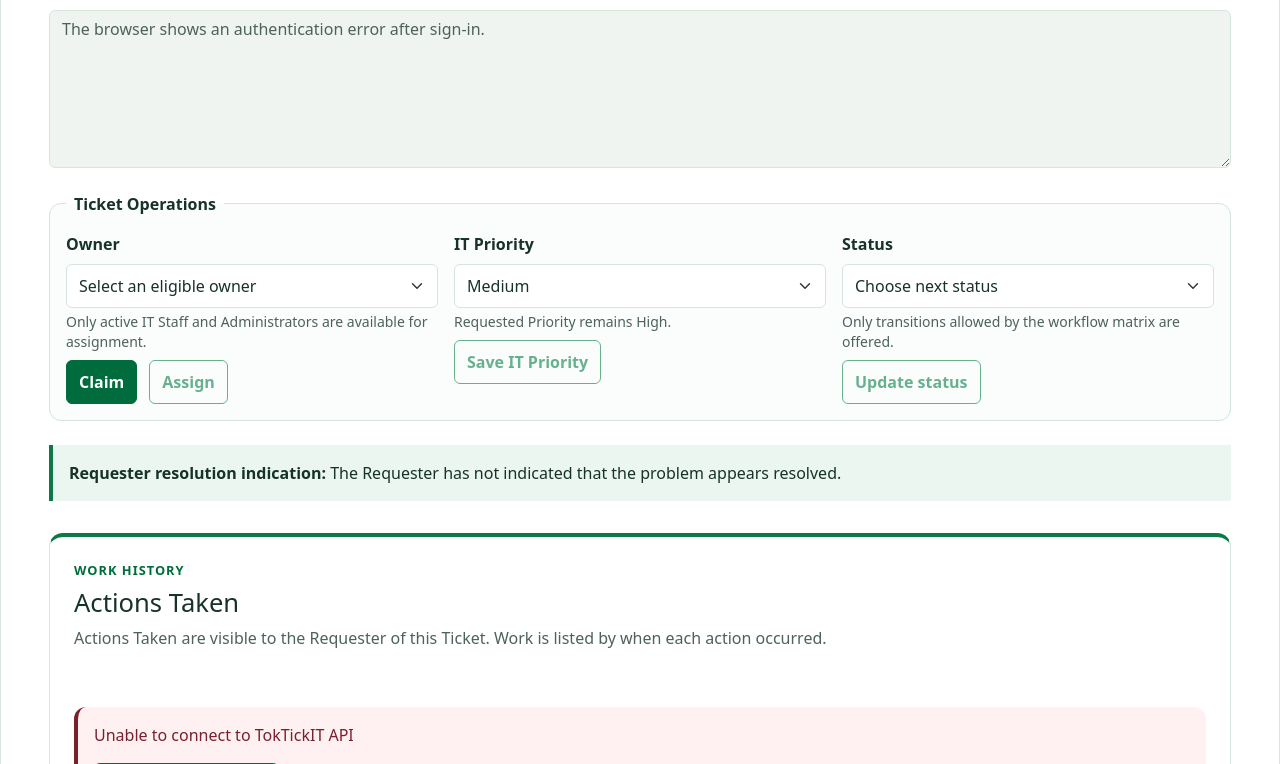
Test case: IT Staff Ticket Detail › requires status confirmation and submits permitted mutations
(page scrolled)
Click the button "Claim" at (102, 382), box left=66, top=360, right=137, bottom=404
(page scrolled)
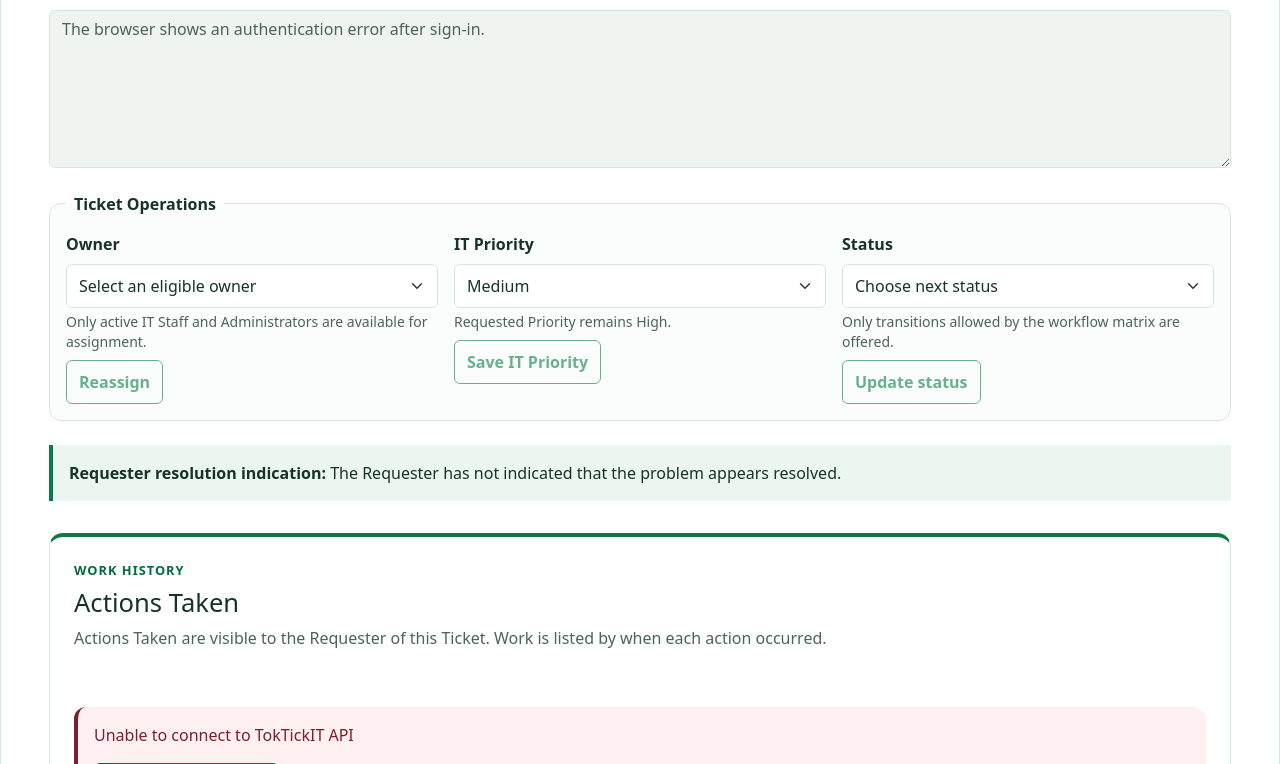
Select "Low" in the dropdown labelled "IT Priority" at (640, 286), box left=454, top=264, right=826, bottom=308
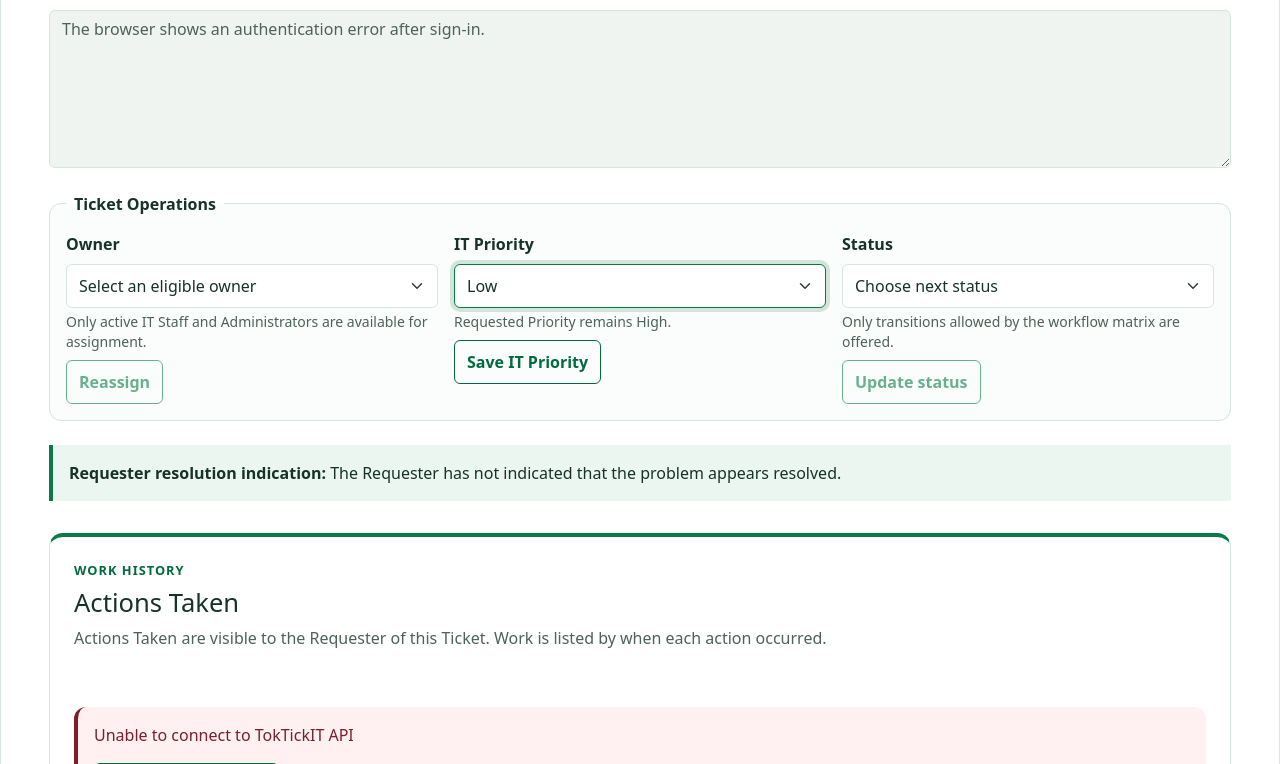
Click the button "Save IT Priority" at (528, 362), box left=454, top=340, right=601, bottom=384
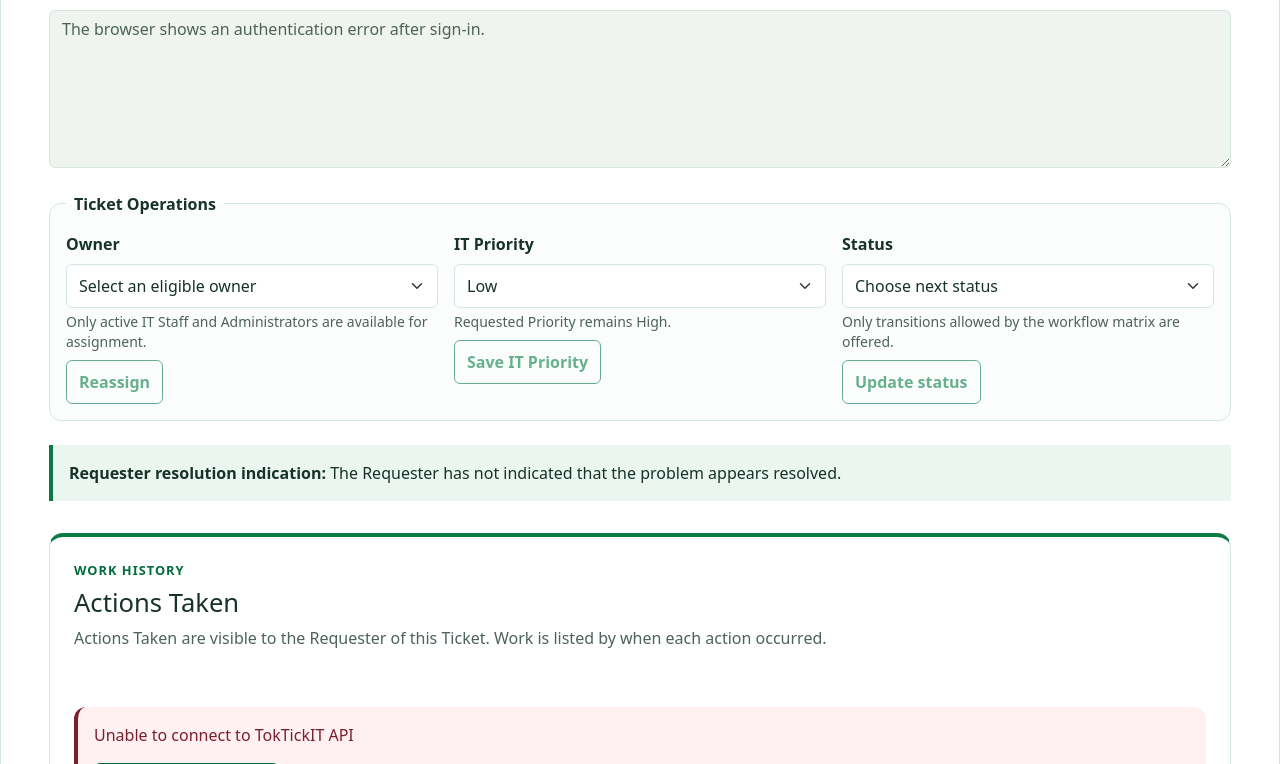
Select "In Progress" in the dropdown labelled "Status" at (1028, 286), box left=842, top=264, right=1214, bottom=308
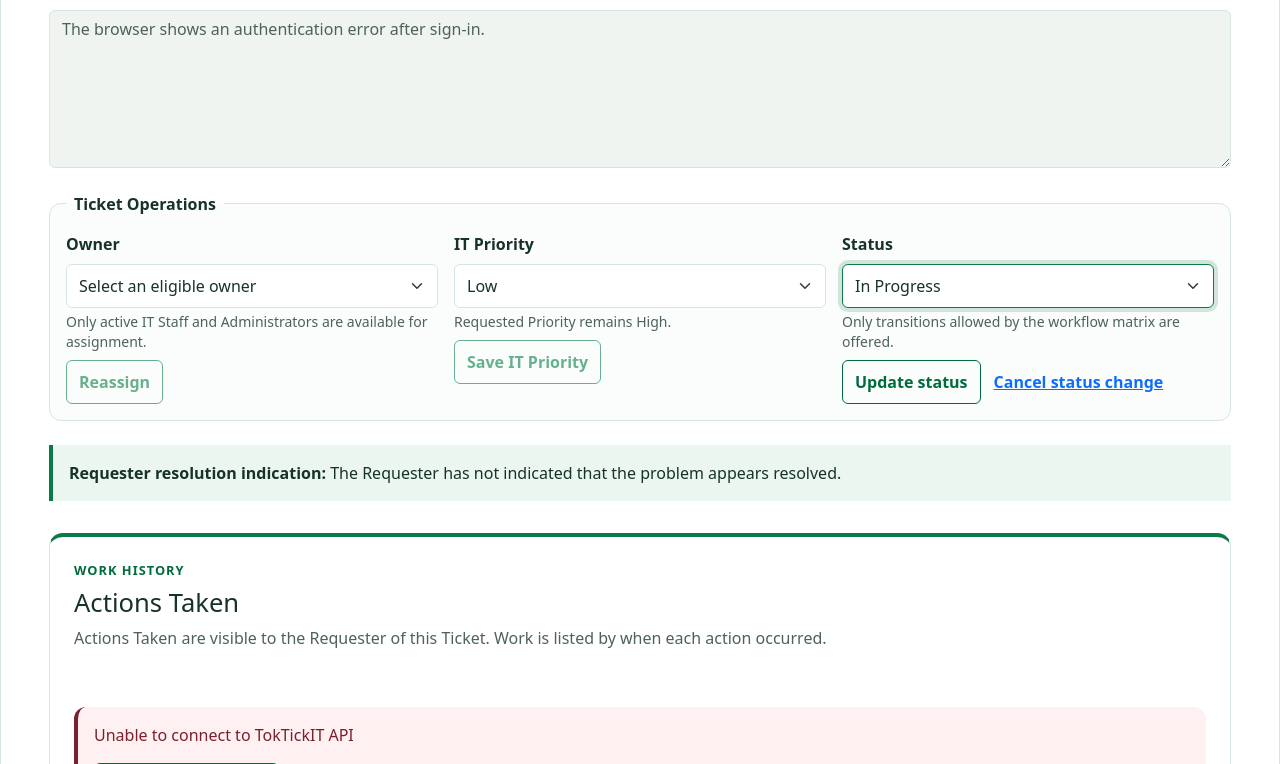
Click the button "Update status" at (911, 382), box left=842, top=360, right=980, bottom=404
(page scrolled)
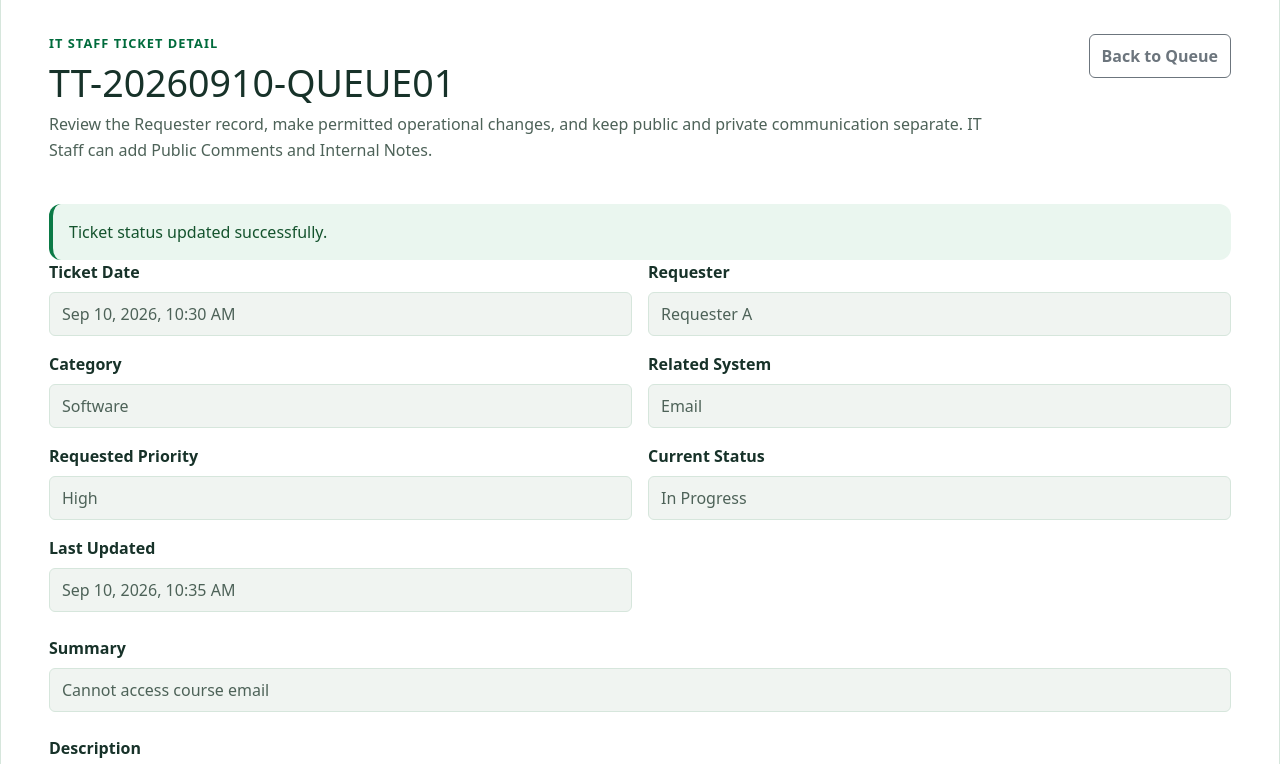
Now the text "Ticket status updated successfully." is shown, box left=49, top=204, right=1231, bottom=260
